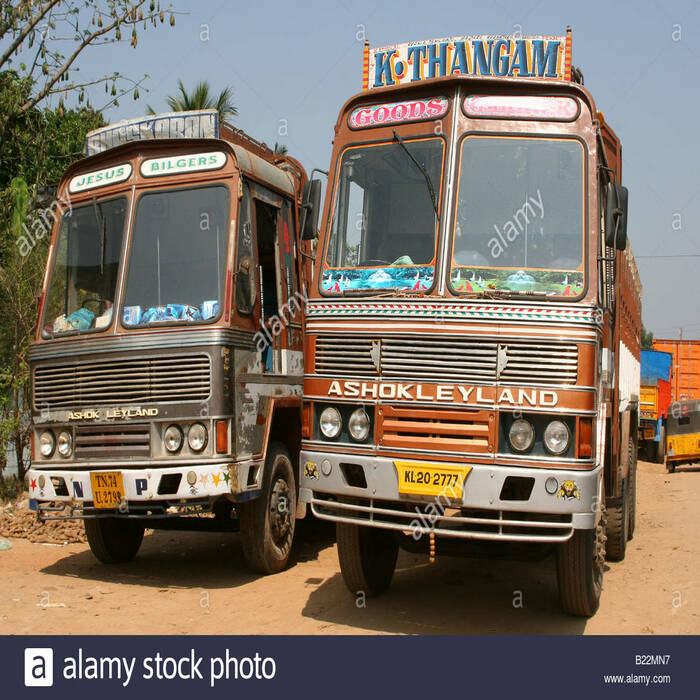n: (394, 461, 461, 497), (87, 468, 127, 512)
